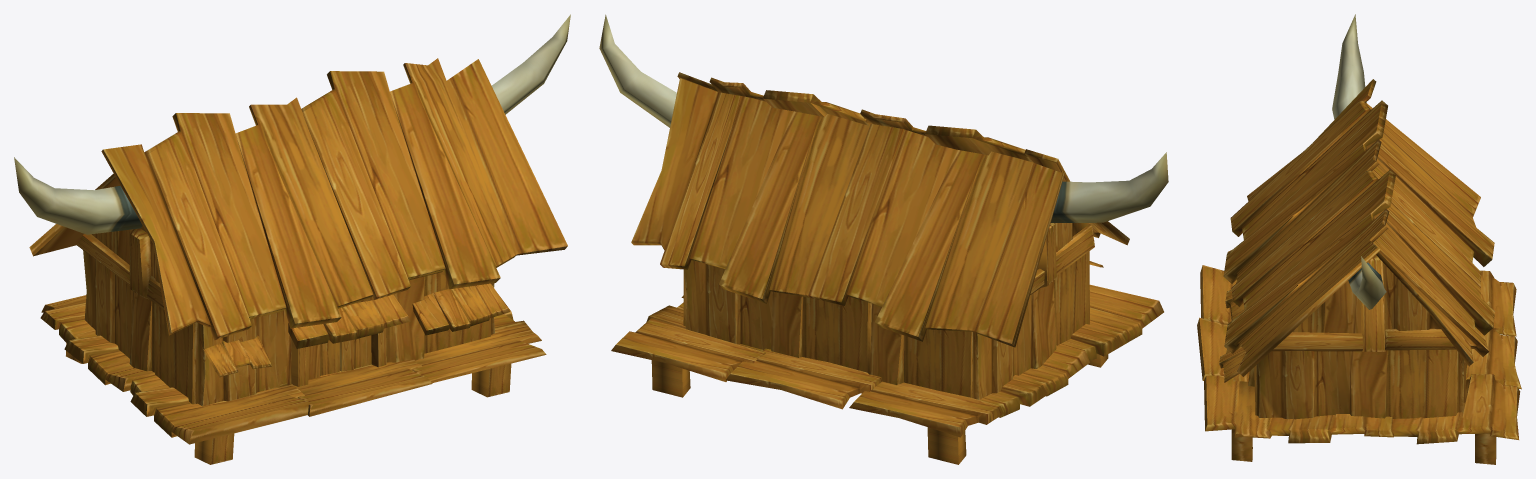
Rendered from Huangdi_jianzhu01.FBX.
3 views of the same model, side by side, from view 1: azimuth 30°, elevation 25°; view 2: azimuth 150°, elevation 25°; view 3: azimuth 270°, elevation 25° (orthographic). The views are drawn at different scales.
Visible parts, largest first — view 1: Object151; view 2: Object151; view 3: Object151.
Boxes of the visible parts, x1,y1,x2,y2 form: Object151: (14,14,570,464); Object151: (599,14,1168,464); Object151: (1197,14,1521,464).
Bounding box in the file's own units: 621 × 310 × 347.
